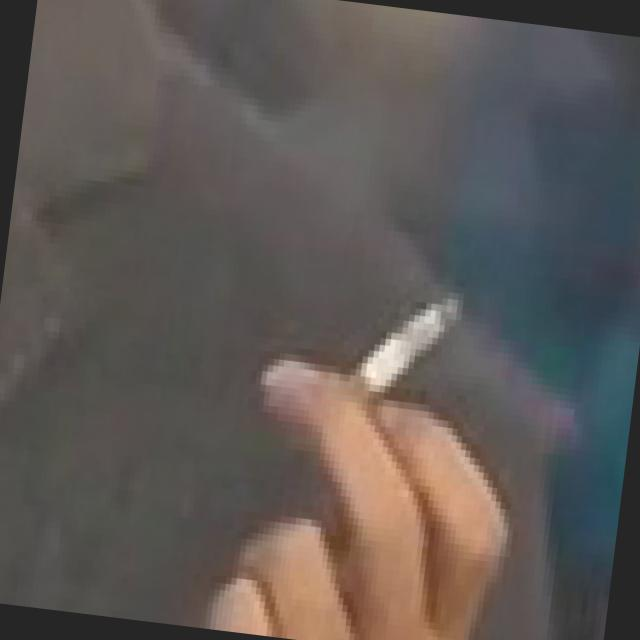cigarette: (310, 244, 474, 446)
